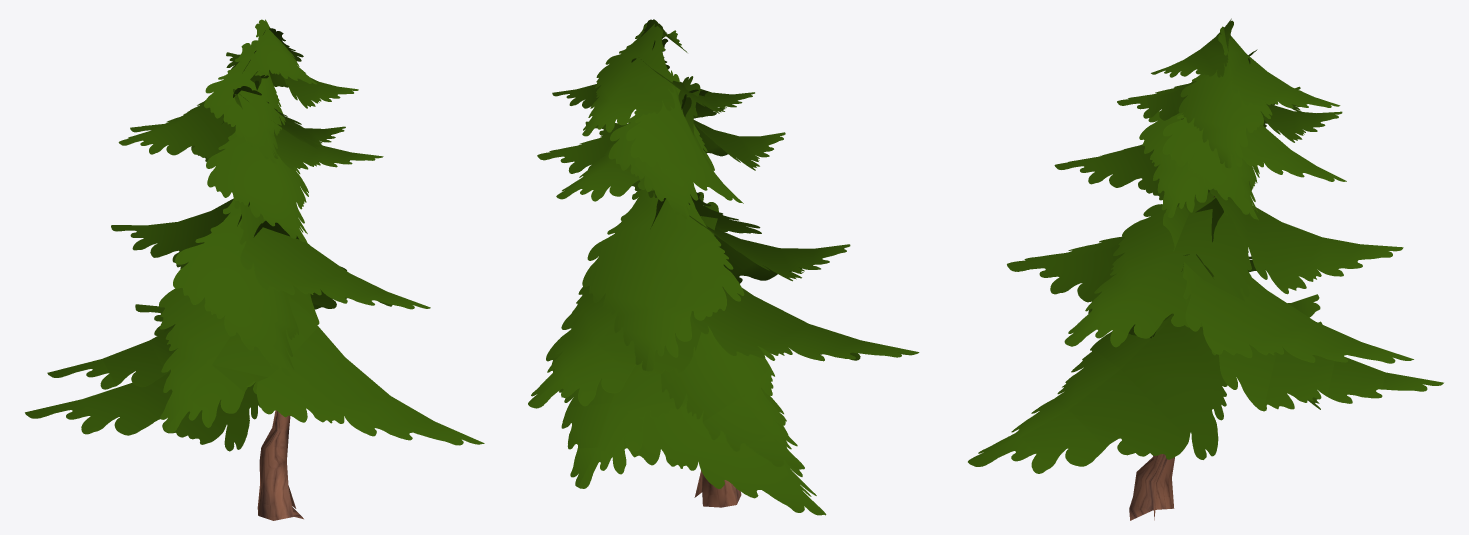
File: Pine_5_L.gltf
The picture shows the model from 3 angles, left to right: view 1: azimuth 30°, elevation 25°; view 2: azimuth 150°, elevation 25°; view 3: azimuth 270°, elevation 25°; orthographic projection. The views are drawn at different scales.
Visible parts, largest first — view 1: Pine_5_L; view 2: Pine_5_L; view 3: Pine_5_L.
Boxes of the visible parts, x1,y1,x2,y2 form: Pine_5_L: [25, 19, 484, 520]; Pine_5_L: [528, 19, 919, 515]; Pine_5_L: [968, 18, 1443, 520].
Size of the model in its own units: 6.17 by 8.93 by 7.89.
2 materials, 2 textured.
